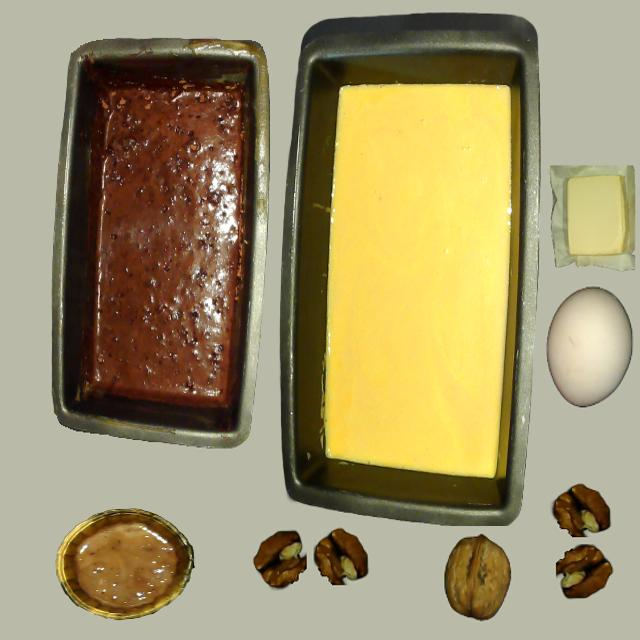Walnut: (444, 535, 512, 619)
